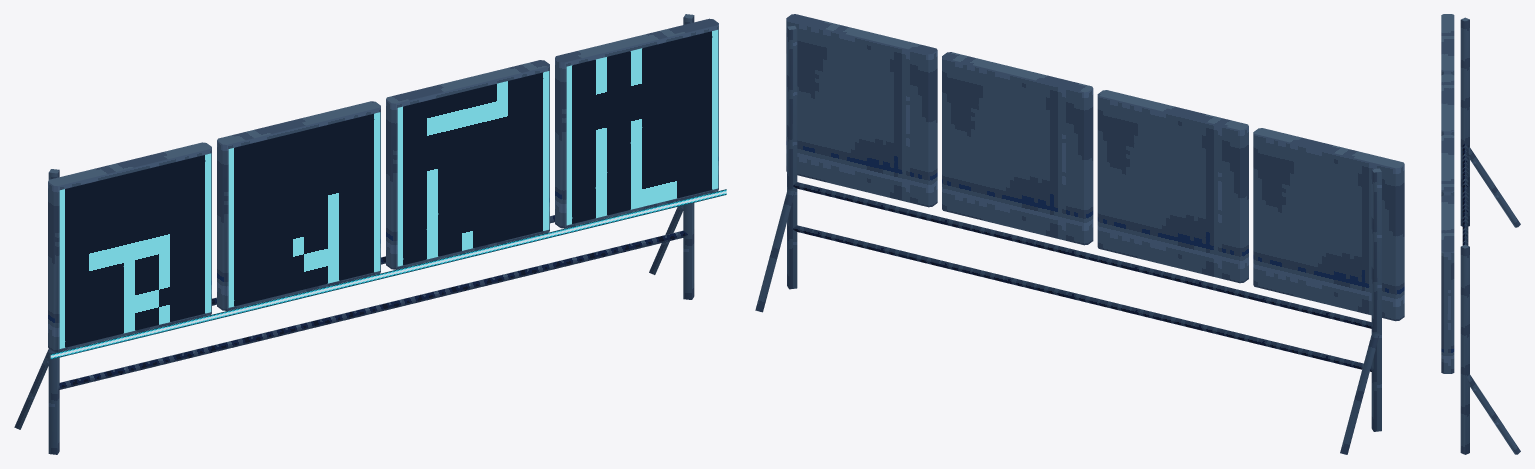
Rendered from cysign.roof.glb.
3 renders of one model, left to right at view 1: azimuth 30°, elevation 25°; view 2: azimuth 150°, elevation 25°; view 3: azimuth 270°, elevation 25°, orthographic. The views are drawn at different scales.
Parts seen in each view (by area): view 1: kit_card_glyphs, kit_panels, kit_lattice; view 2: kit_panels, kit_lattice; view 3: kit_lattice, kit_panels.
Part boxes in pixels (x1=…): kit_card_glyphs: x1=50, y1=30, x2=726, y2=359; kit_panels: x1=48, y1=18, x2=718, y2=352; kit_lattice: x1=14, y1=14, x2=694, y2=454; kit_panels: x1=786, y1=14, x2=1404, y2=321; kit_lattice: x1=755, y1=25, x2=1381, y2=454; kit_lattice: x1=1460, y1=17, x2=1520, y2=454; kit_panels: x1=1441, y1=14, x2=1454, y2=373.
Size of the model in its own units: 9.8 by 3.93 by 1.39.
Materials: 5 (5 with a texture image).
